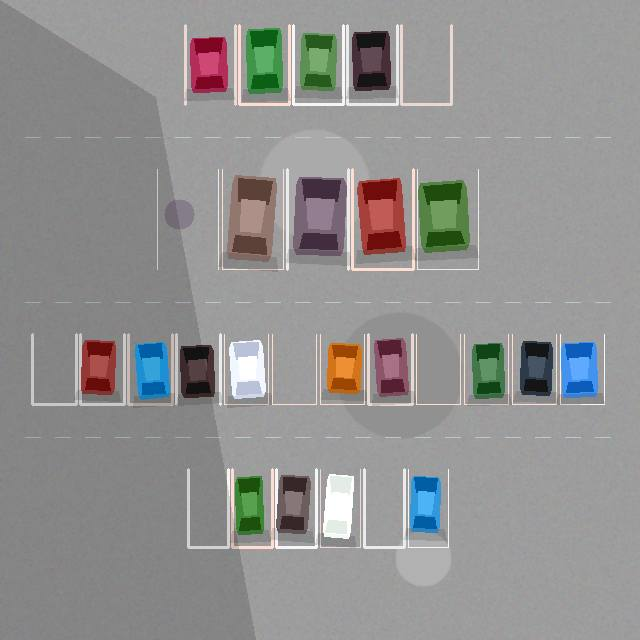space-empty: (157, 169, 218, 269), (401, 25, 451, 104), (188, 469, 228, 547), (364, 469, 404, 547), (32, 334, 76, 404), (272, 334, 316, 404), (416, 334, 460, 404)
space-occupied: (222, 169, 283, 269), (287, 169, 348, 269), (352, 169, 413, 269), (417, 169, 478, 269), (185, 25, 235, 104), (239, 25, 289, 104), (293, 25, 343, 104), (347, 25, 397, 104), (232, 469, 272, 547), (276, 469, 316, 547), (320, 469, 360, 547), (408, 469, 448, 547), (80, 334, 124, 404), (128, 334, 172, 404), (176, 334, 220, 404), (224, 334, 268, 404), (320, 334, 364, 404), (368, 334, 412, 404), (464, 334, 508, 404), (512, 334, 556, 404), (560, 334, 604, 404)
